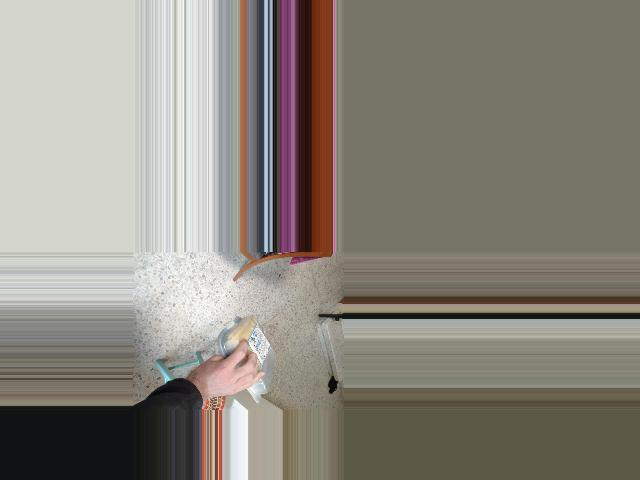cheese: (230, 308, 270, 397)
